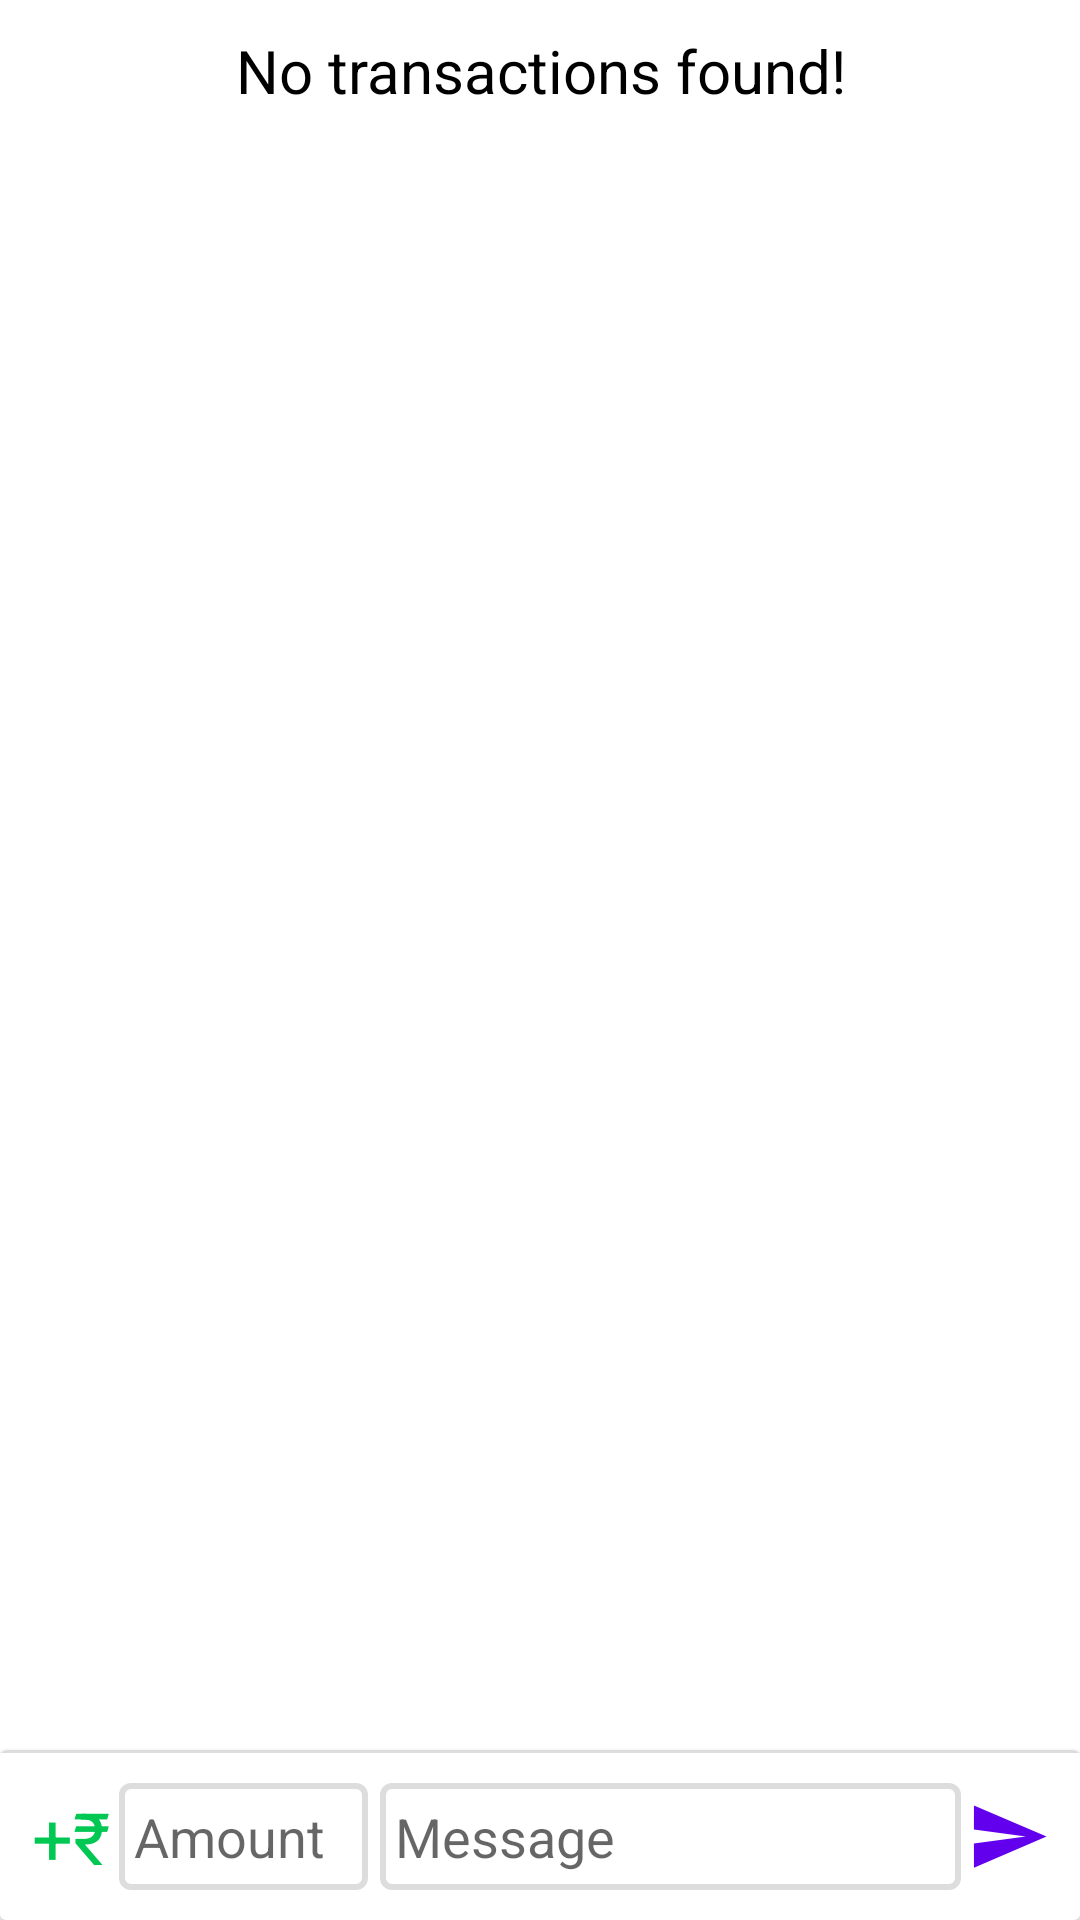

Where icons sit on this 1080x1920 app screen, as bbox=[x1, y1, x2, y2]:
send: bbox=[974, 1805, 1047, 1868]
